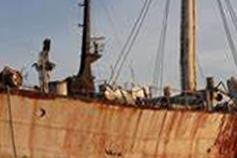rust: (64, 101, 204, 158), (213, 113, 236, 158)
